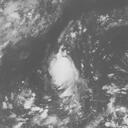cyclone: (47, 50, 81, 103)
